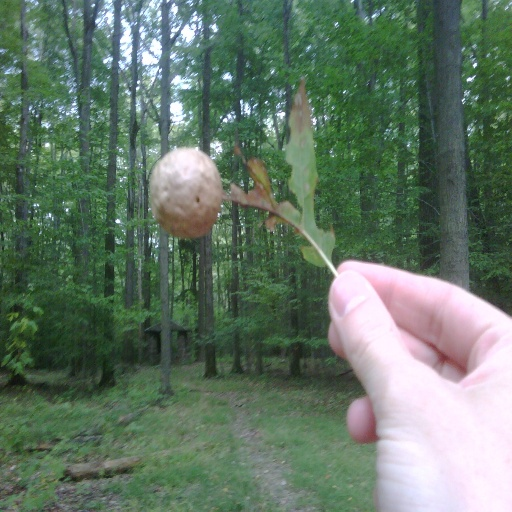hand: (328, 256, 510, 511)
